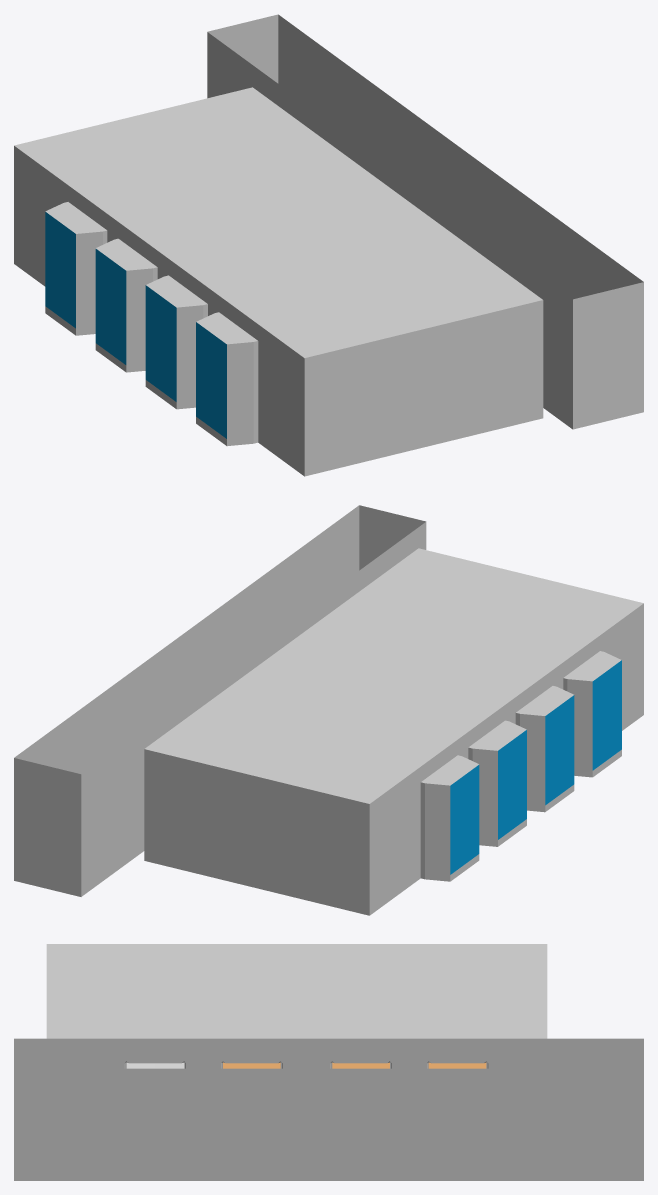
Rendered from intermedia.fbx.
The picture shows the model from 3 angles, top to bottom: view 1: azimuth 30°, elevation 25°; view 2: azimuth 150°, elevation 25°; view 3: azimuth 270°, elevation 25°; orthographic projection. The views are drawn at different scales.
Visible parts, largest first — view 1: room; view 2: room; view 3: room, stage.
Boxes of the visible parts, x1,y1,x2,y2 form: room: [14, 14, 643, 476]; room: [14, 505, 643, 915]; room: [14, 944, 643, 1180]; stage: [126, 1062, 184, 1068].
Bounding box in the file's own units: 1537 × 550 × 2800.
